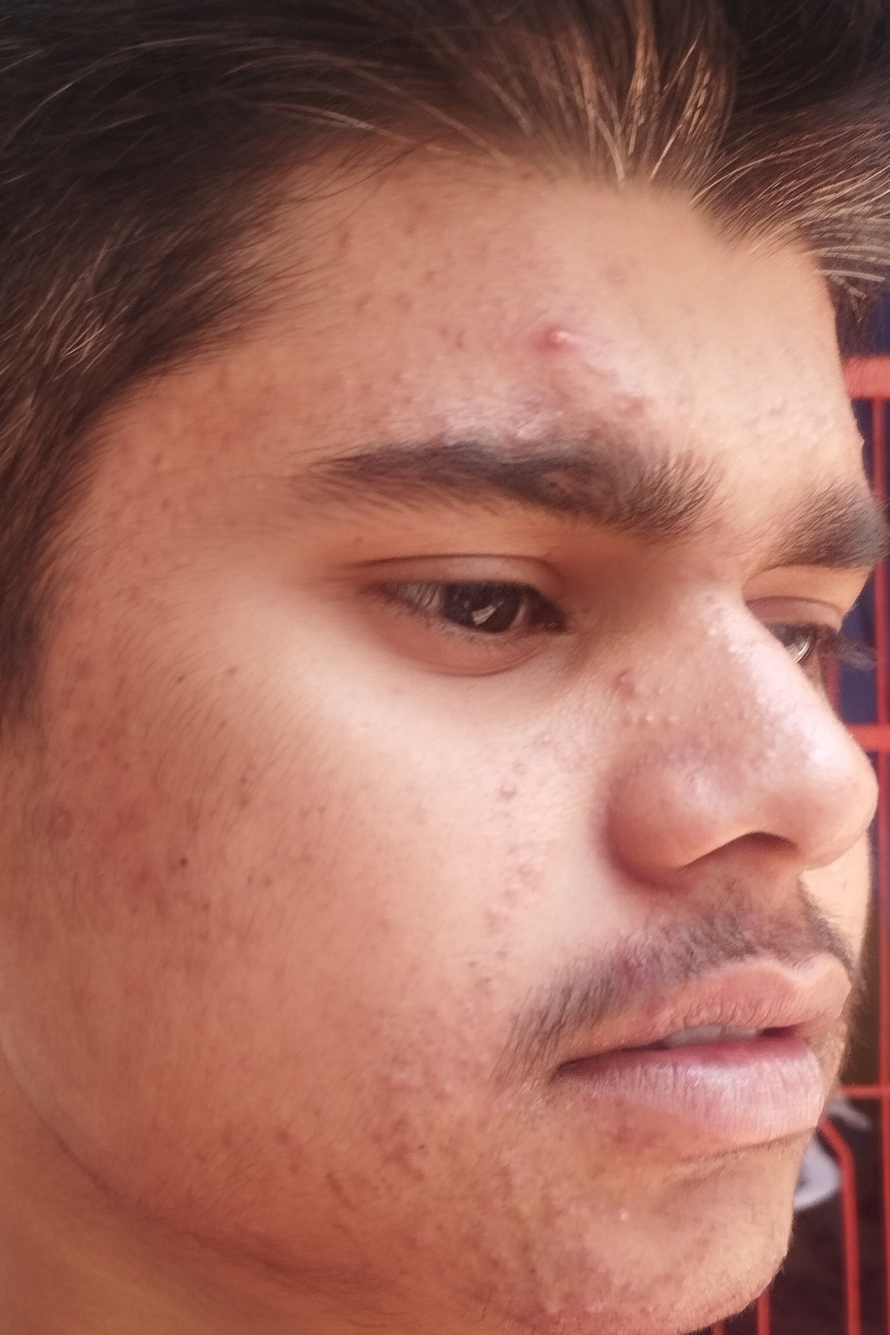closed_comedone: (437, 1053, 514, 1141), (195, 346, 272, 423), (479, 1152, 554, 1229), (171, 789, 239, 868), (318, 209, 380, 289), (34, 791, 105, 855), (488, 833, 554, 899), (369, 350, 446, 403), (140, 421, 191, 491), (261, 1108, 318, 1168), (492, 703, 541, 767), (492, 771, 541, 820)
papule: (519, 306, 583, 381), (607, 659, 671, 720)
